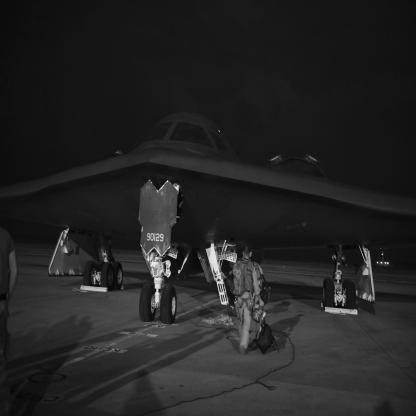B2: (1, 113, 416, 326)
